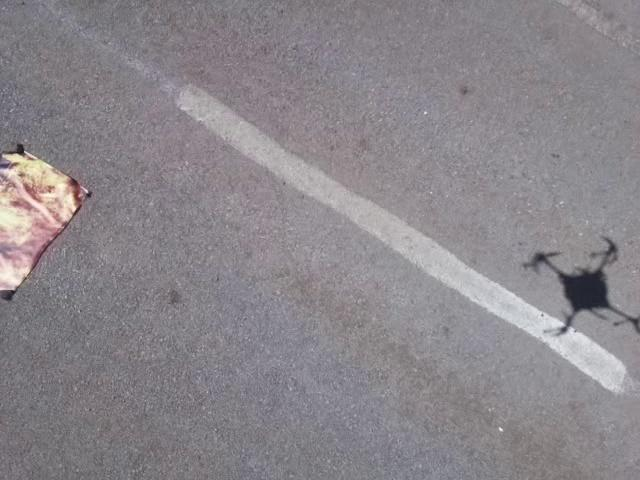fire-poster: (0, 140, 92, 302)
